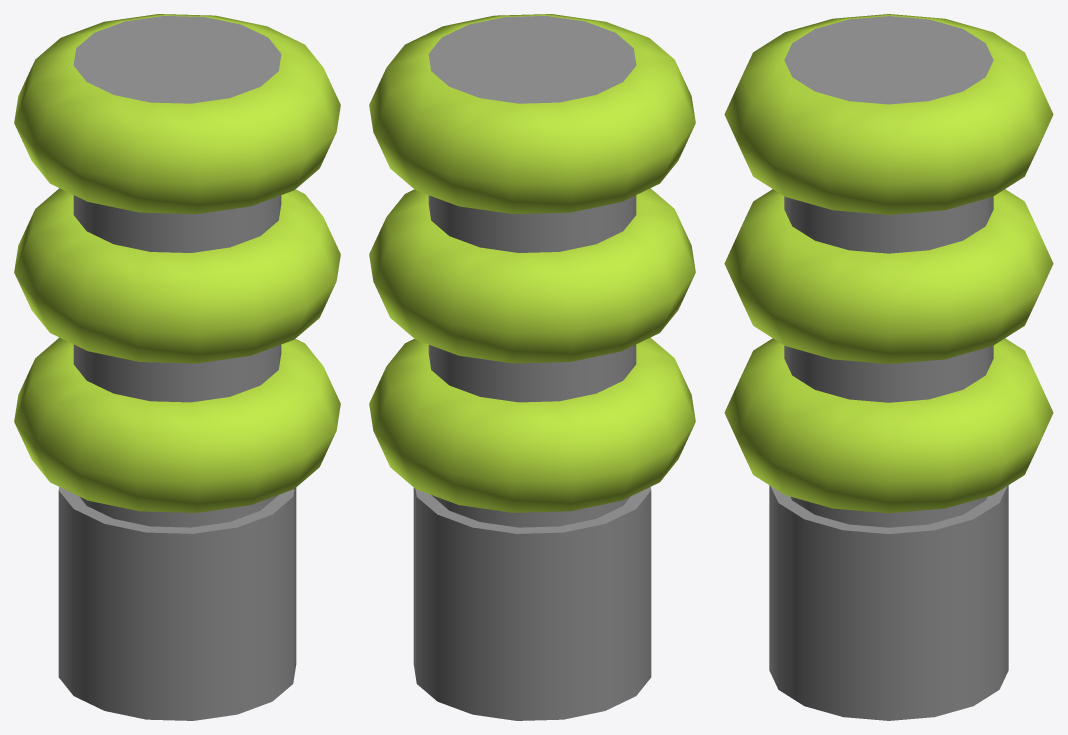
Rendered from denki_h.FBX.
3 views of the same model, side by side, from view 1: azimuth 30°, elevation 25°; view 2: azimuth 150°, elevation 25°; view 3: azimuth 270°, elevation 25° (orthographic).
Visible parts, largest first — view 1: denki_h, denki_h_w01, denki_h_w03, denki_h_w02; view 2: denki_h, denki_h_w01, denki_h_w03, denki_h_w02; view 3: denki_h, denki_h_w01, denki_h_w02, denki_h_w03.
Part boxes in pixels (box(x1,y1,x2,y2)): denki_h: box(58, 16, 296, 720); denki_h_w01: box(14, 14, 340, 214); denki_h_w03: box(14, 337, 340, 512); denki_h_w02: box(14, 188, 340, 363); denki_h: box(413, 16, 651, 720); denki_h_w01: box(369, 14, 695, 214); denki_h_w03: box(369, 337, 695, 512); denki_h_w02: box(369, 188, 695, 363); denki_h: box(769, 16, 1008, 720); denki_h_w01: box(724, 14, 1053, 214); denki_h_w02: box(724, 189, 1053, 363); denki_h_w03: box(724, 338, 1053, 513).
Bounding box in the file's own units: 110 × 225 × 110.
